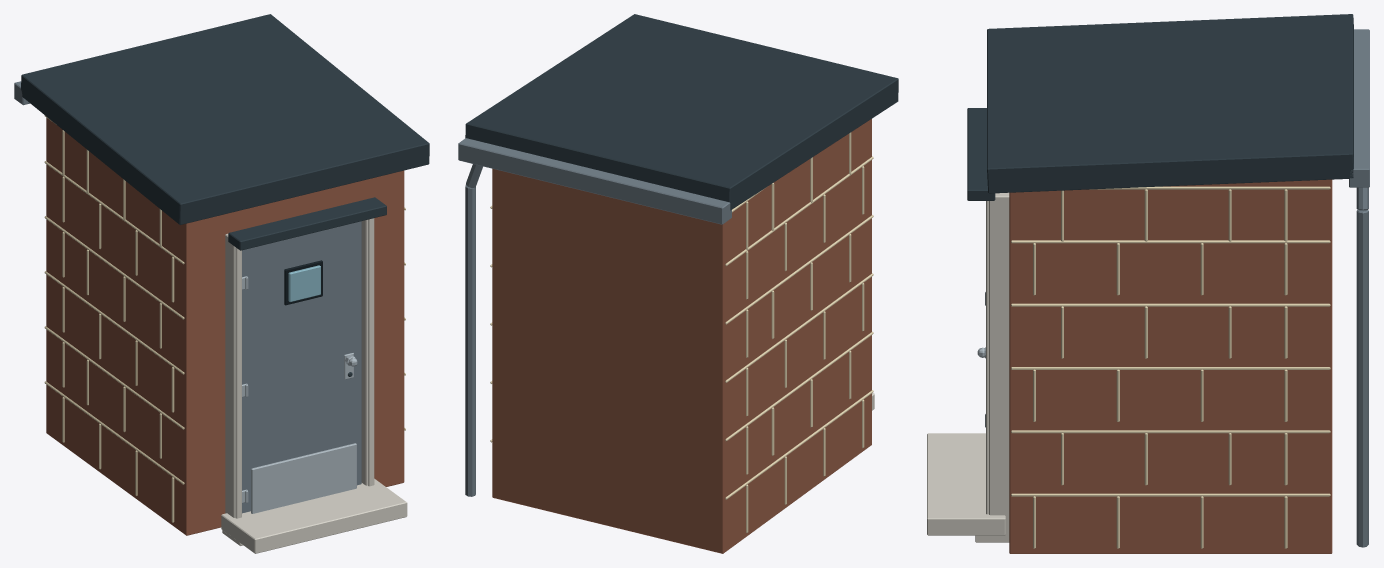
The model's file is b12_rooftop_stair_headhouse.glb.
3 views of the same model, side by side, from view 1: azimuth 30°, elevation 25°; view 2: azimuth 150°, elevation 25°; view 3: azimuth 270°, elevation 25° (orthographic). The views are drawn at different scales.
Parts seen in each view (by area): view 1: b12_rooftop_stair_headhouse; view 2: b12_rooftop_stair_headhouse; view 3: b12_rooftop_stair_headhouse.
Part boxes in pixels (box(x1,y1,x2,y2)): b12_rooftop_stair_headhouse: box(14, 14, 429, 553); b12_rooftop_stair_headhouse: box(458, 14, 898, 553); b12_rooftop_stair_headhouse: box(927, 14, 1369, 553).
Size of the model in its own units: 1.9 by 2.65 by 2.54.
